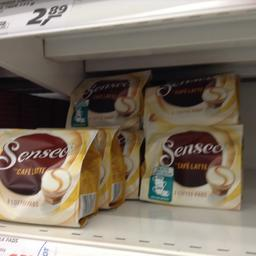coffee: (0, 126, 99, 228), (140, 122, 242, 210), (142, 70, 240, 124), (65, 68, 146, 124)
